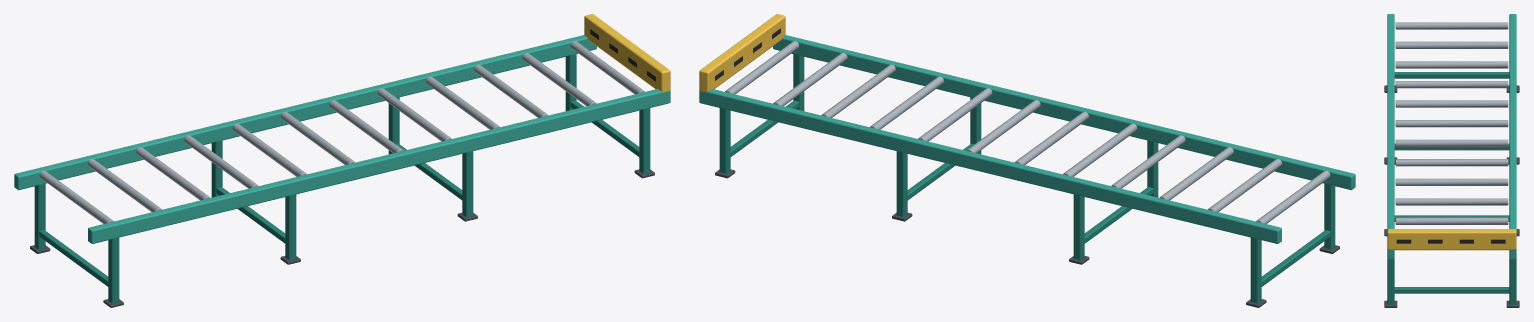
Rendered from mesa_saida.glb.
3 renders of one model, left to right at view 1: azimuth 30°, elevation 25°; view 2: azimuth 150°, elevation 25°; view 3: azimuth 270°, elevation 25°, orthographic. The views are drawn at different scales.
Parts seen in each view (by area): view 1: longarina (×2), rolo (×12), pe (×8), travessa (×4), batente; view 2: longarina (×2), rolo (×12), pe (×8), travessa (×4), batente; view 3: rolo (×11), longarina (×2), batente, travessa (×4), pe (×2).
Part boxes in pixels (x1,y1,x2,y2): longarina (×2): (14, 35, 670, 243); rolo (×12): (39, 41, 644, 223); pe (×8): (34, 54, 650, 303); travessa (×4): (39, 100, 639, 286); batente: (584, 14, 670, 92); longarina (×2): (699, 35, 1355, 243); rolo (×12): (725, 41, 1330, 223); pe (×8): (719, 54, 1335, 303); travessa (×4): (730, 100, 1330, 286); batente: (699, 14, 785, 92); rolo (×11): (1395, 22, 1508, 224); longarina (×2): (1387, 14, 1516, 259); batente: (1387, 229, 1516, 250); travessa (×4): (1394, 72, 1509, 293); pe (×2): (1387, 259, 1516, 304).
Size of the model in its own units: 6 by 0.99 by 1.46.
